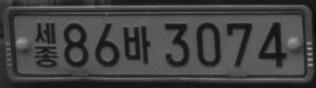0: (195, 21, 222, 68)
3: (164, 22, 190, 68)
4: (258, 21, 288, 68)
6: (94, 23, 120, 67)
7: (225, 22, 254, 67)
8: (62, 22, 89, 67)
바: (123, 25, 151, 64)
세종_V: (34, 21, 58, 67)
